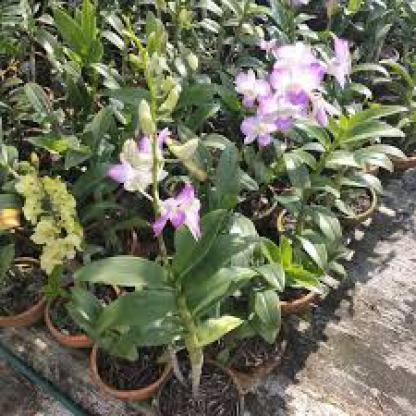ANGGREK: (86, 35, 382, 253)
